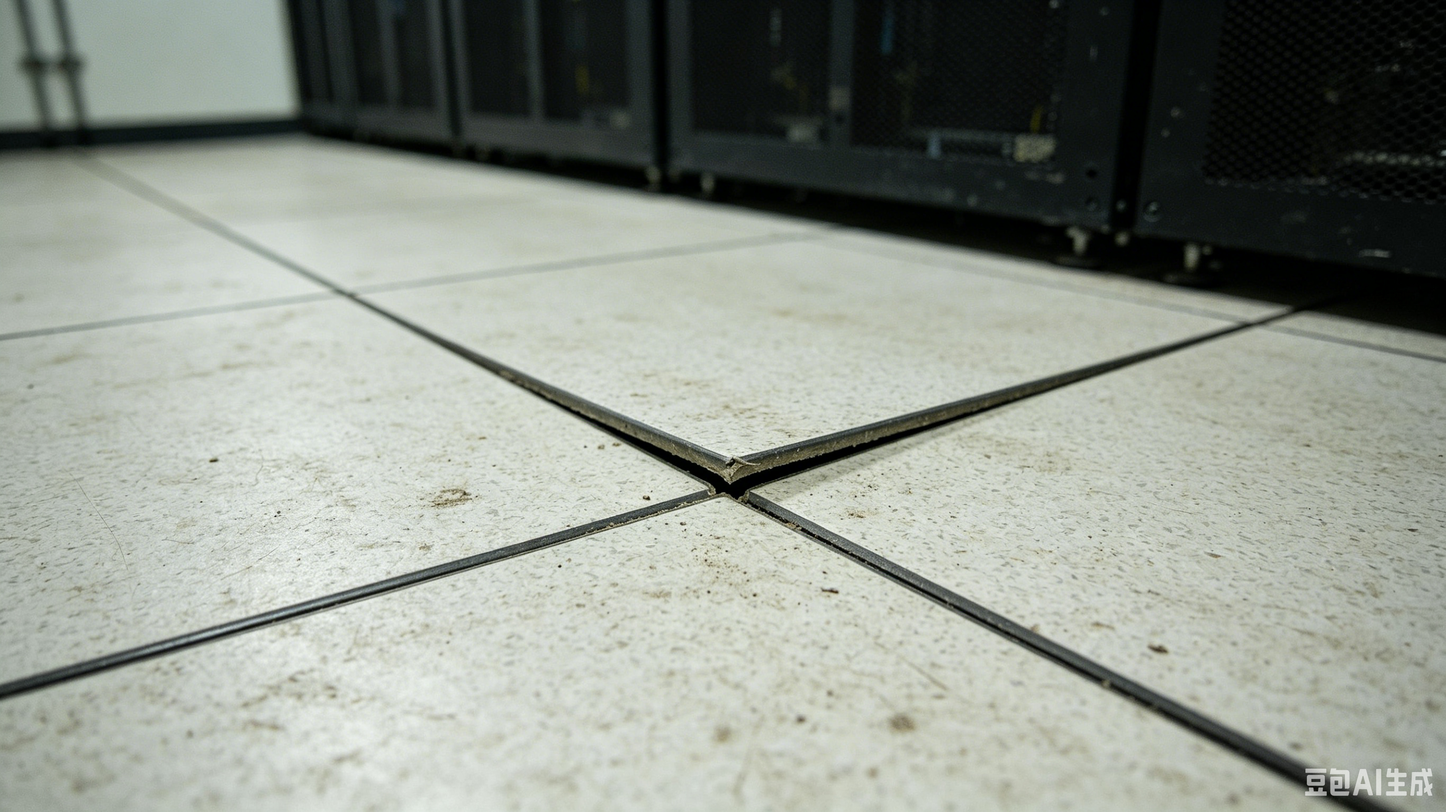floor_defect: (469, 322, 1111, 531)
